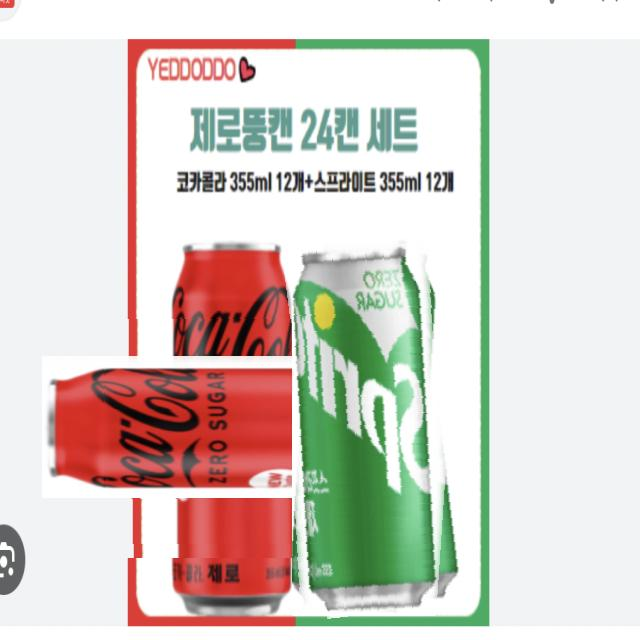recyclable: (102, 296, 363, 558), (292, 232, 461, 616)
